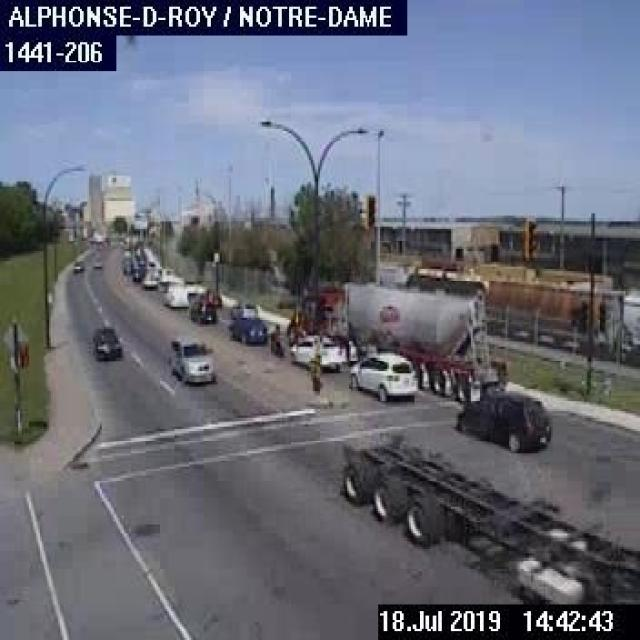vehicle: (336, 431, 638, 602), (281, 276, 512, 407), (454, 389, 556, 455), (344, 346, 424, 402), (284, 329, 346, 369), (164, 333, 214, 382), (227, 311, 265, 346), (90, 325, 122, 357), (160, 276, 188, 306), (187, 300, 215, 324), (229, 299, 256, 318), (269, 323, 282, 355), (199, 288, 221, 306), (71, 260, 82, 272), (90, 259, 101, 269)
